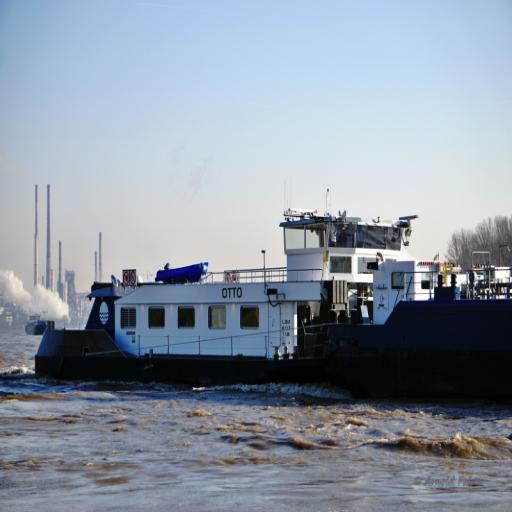tugboat: (33, 210, 430, 395)
